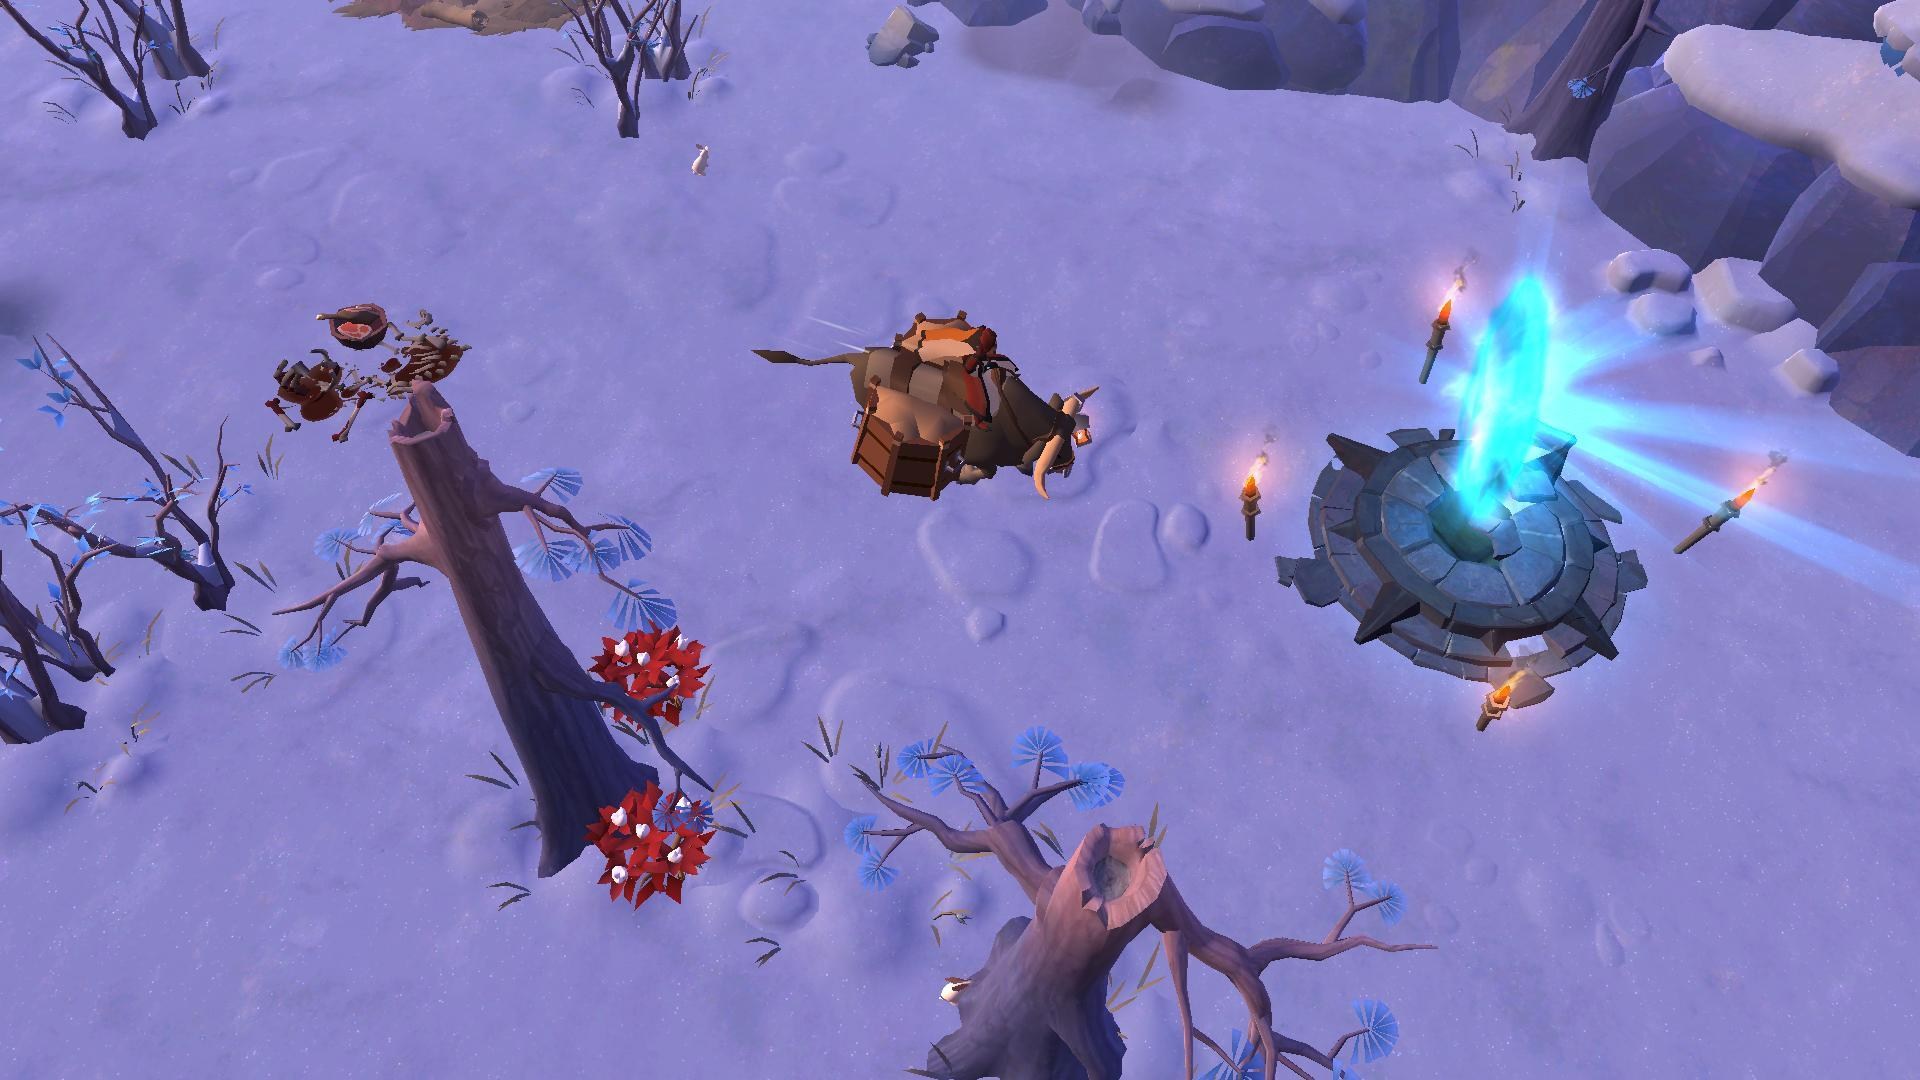fiber_t5: (571, 781, 721, 902), (585, 611, 711, 735)
